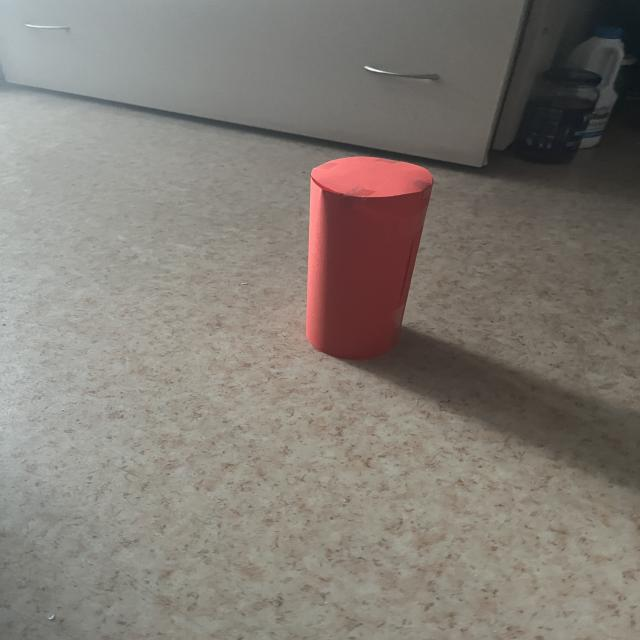przeszkoda: (306, 157, 433, 359)
